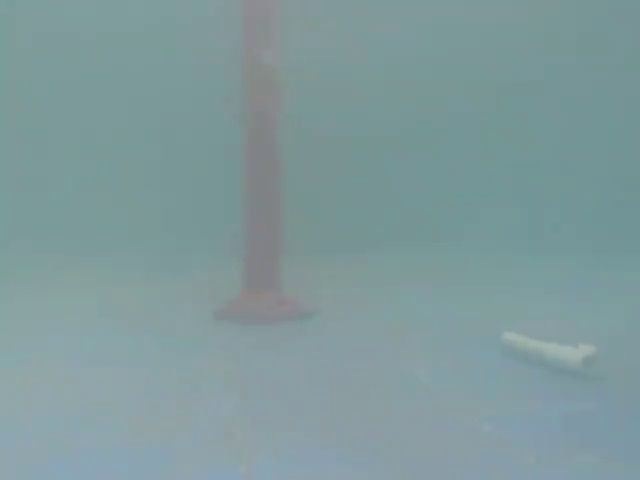flare: (213, 0, 308, 333)
